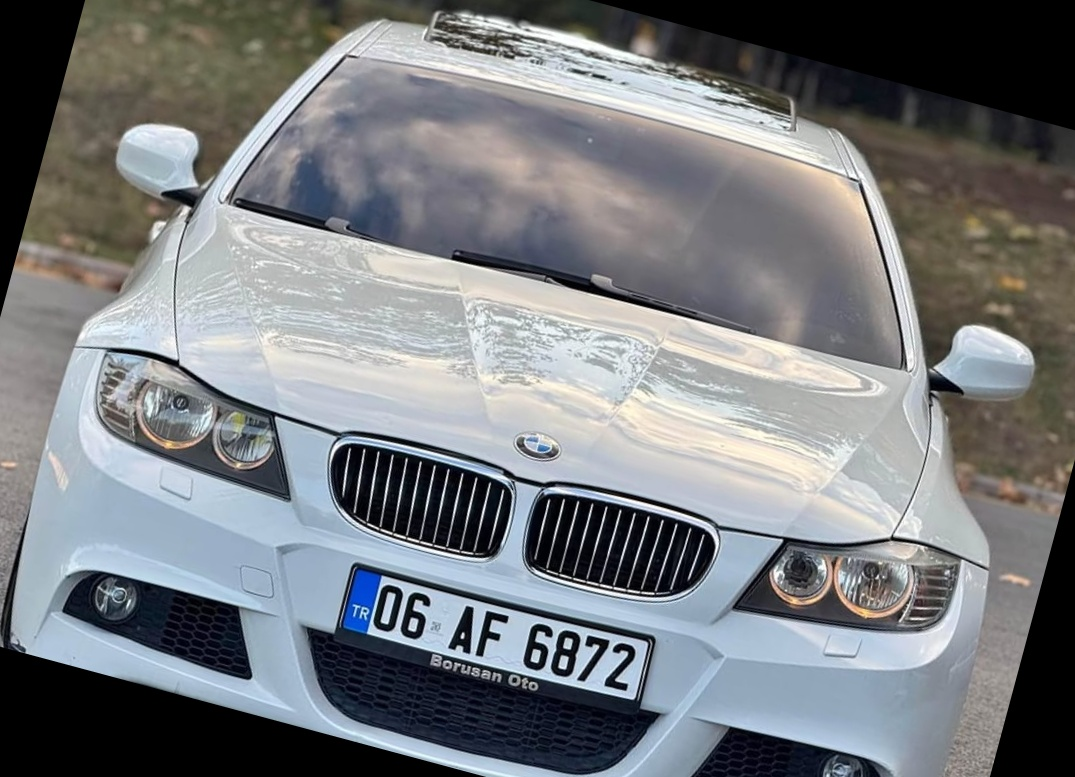plaka: (364, 559, 649, 695)
